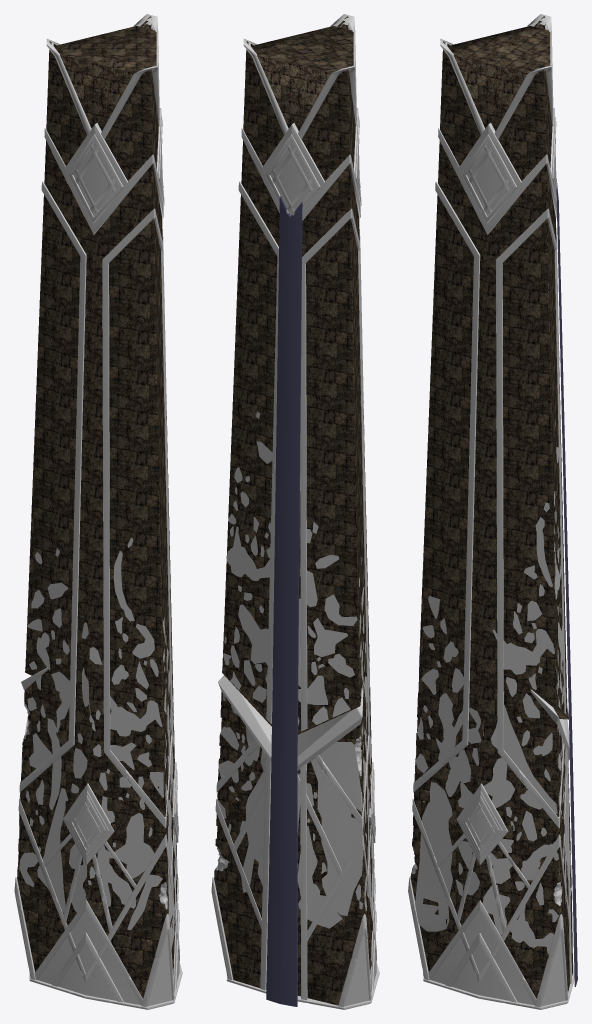
3 views of the same model, side by side, from view 1: azimuth 30°, elevation 25°; view 2: azimuth 150°, elevation 25°; view 3: azimuth 270°, elevation 25° (orthographic).
Parts seen in each view (by area): view 1: SM_Fuzan_Tower_01_LOD0; view 2: SM_Fuzan_Tower_01_LOD0; view 3: SM_Fuzan_Tower_01_LOD0.
Boxes of the visible parts, x1,y1,x2,y2 form: SM_Fuzan_Tower_01_LOD0: (14,14,182,1009); SM_Fuzan_Tower_01_LOD0: (211,14,379,1009); SM_Fuzan_Tower_01_LOD0: (408,14,577,1009).
Size of the model in its own units: 64.59 by 375 by 61.49.
